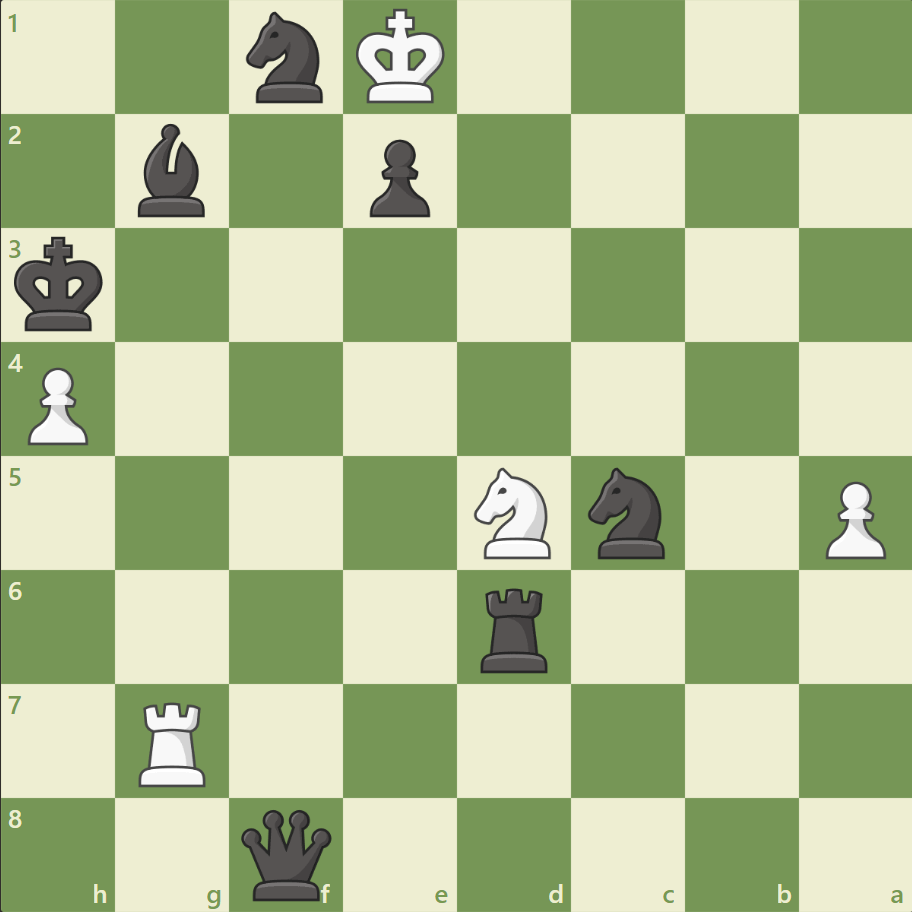K: (351, 4, 451, 112)
N: (465, 461, 562, 564)
P: (20, 359, 95, 450), (815, 473, 889, 564)
R: (133, 693, 215, 790)
b: (131, 120, 215, 222)
k: (11, 231, 111, 339)
n: (579, 461, 676, 564), (238, 7, 335, 110)
p: (361, 132, 435, 223)
q: (237, 804, 336, 903)
r: (473, 579, 556, 676)
